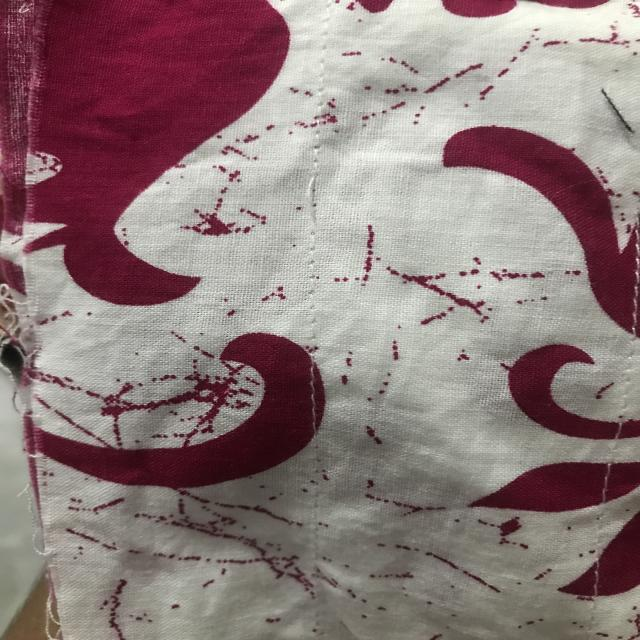broken: (302, 173, 346, 220)
good: (304, 364, 326, 428)
